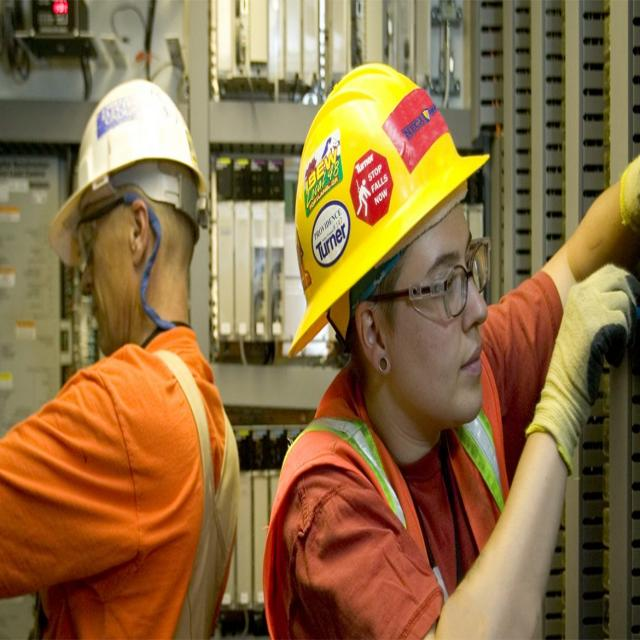Reflective-Jacket: (4, 317, 230, 640), (264, 374, 518, 638)
Safety-Helmet: (288, 58, 486, 344), (45, 70, 216, 270)
